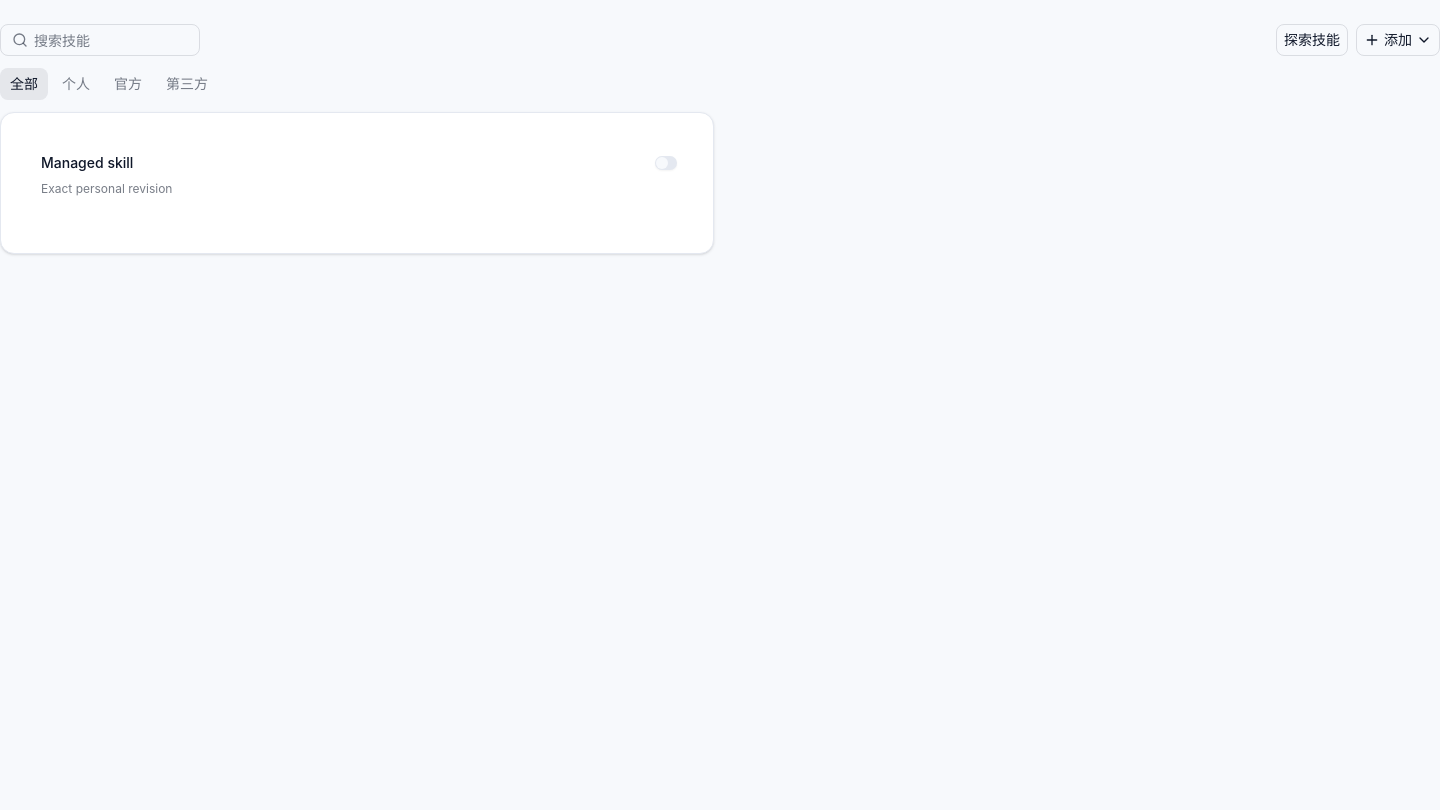
Test: does not treat a personal source label as publisher authority: forbidden
Click the button "Managed skill". click: (87, 163)
box: [41, 145, 133, 181]
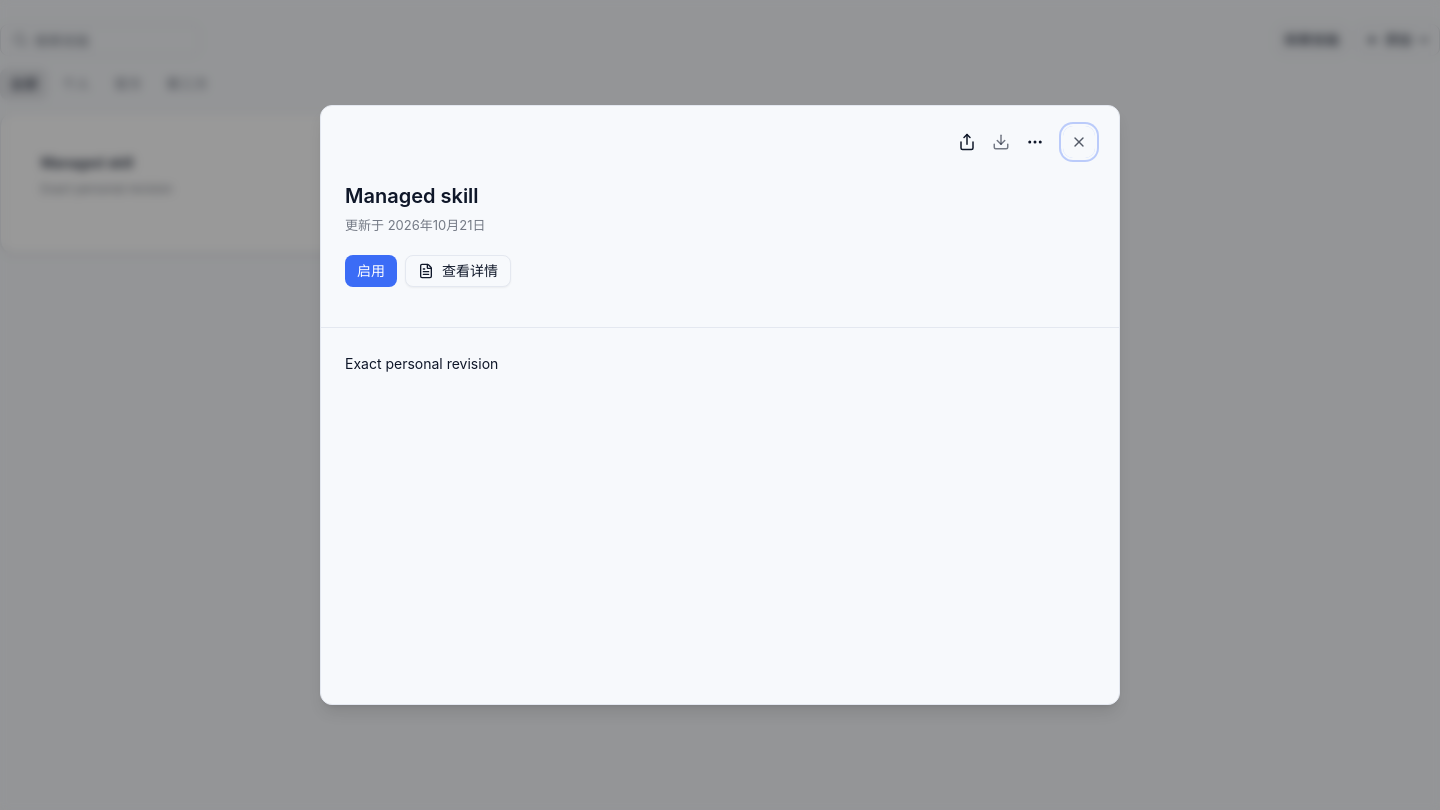
Press ArrowDown in the button named "更多技能操作", box [1019, 126, 1051, 158]
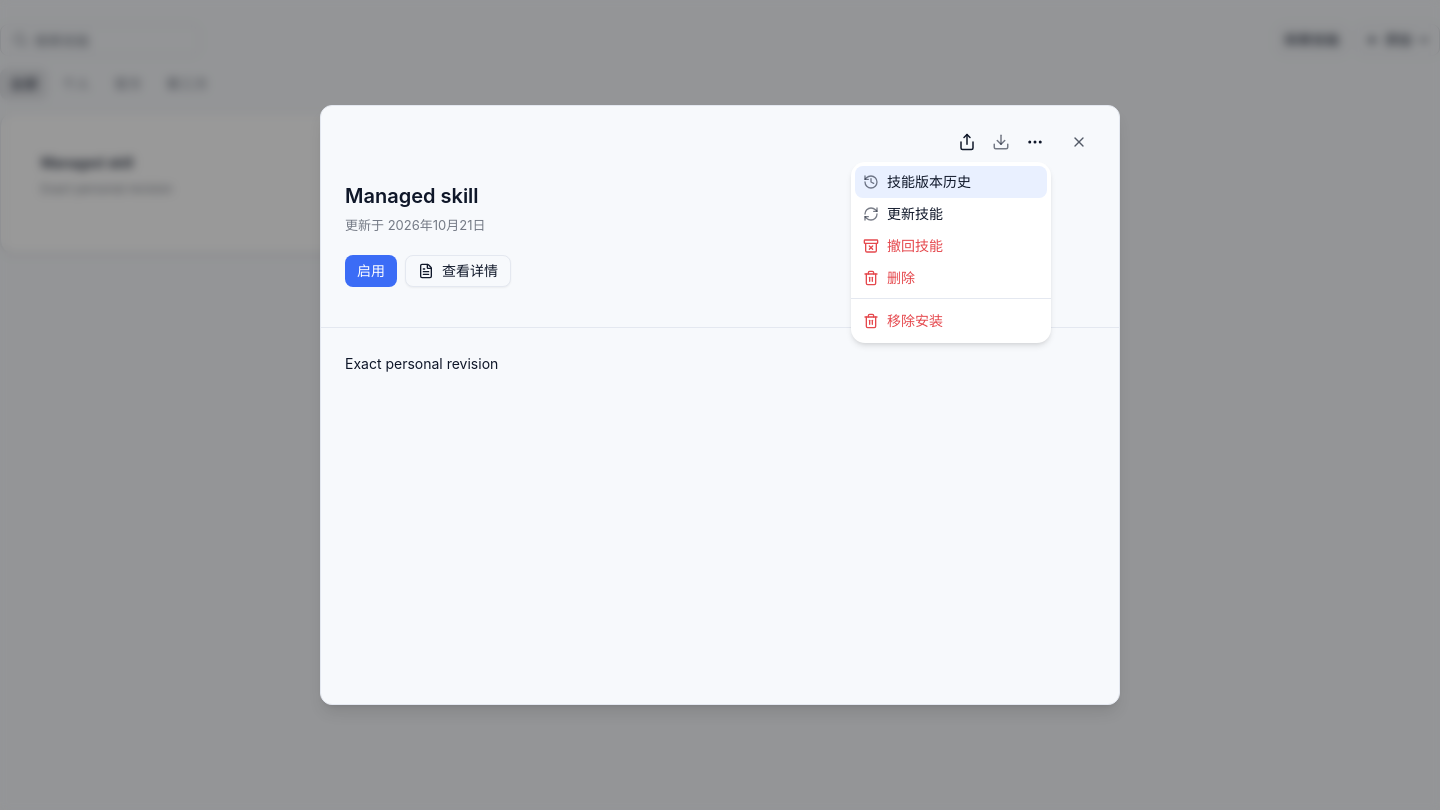
Click the menu item "更新技能". click: (903, 214)
box: [863, 205, 943, 222]
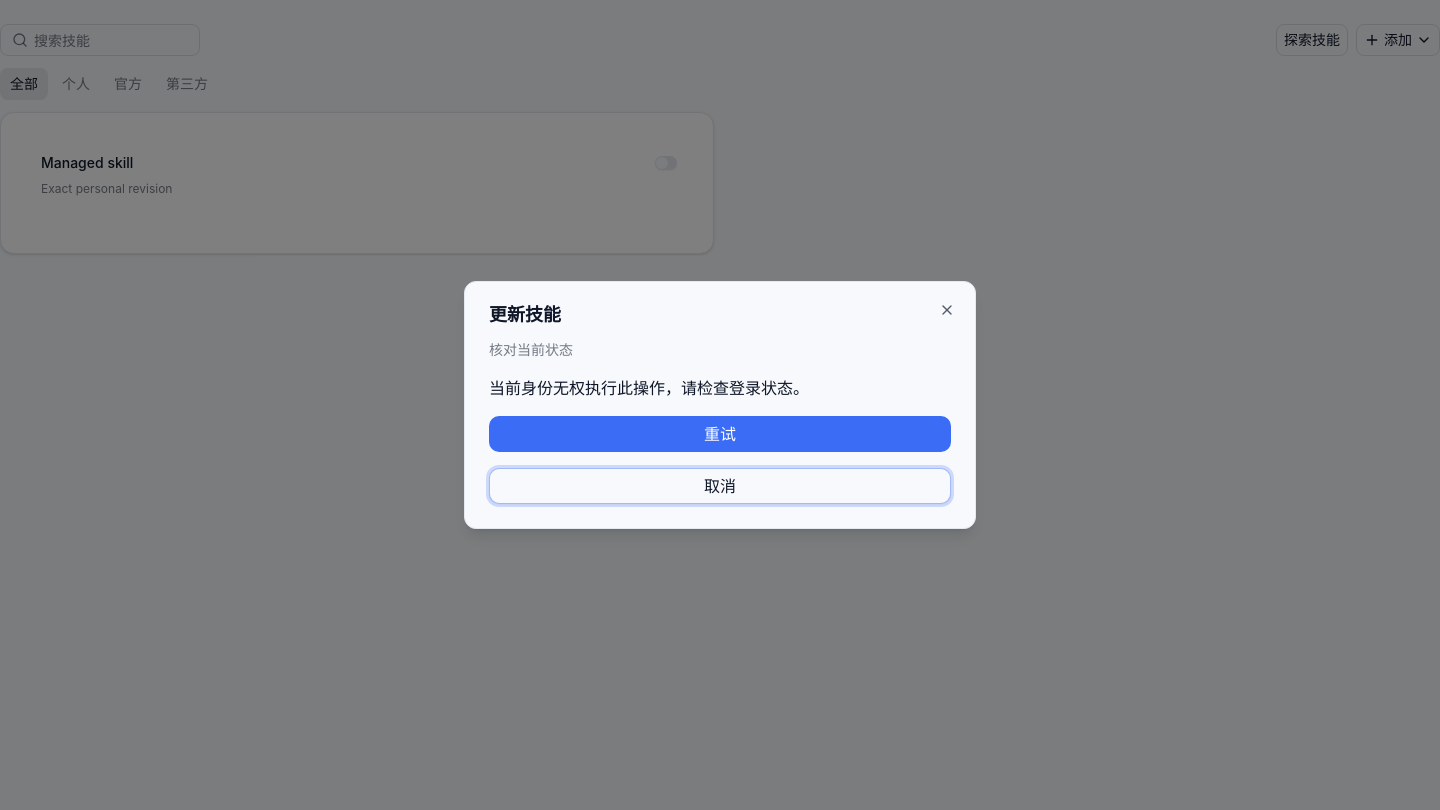
Now the message "当前身份无权执行此操作，请检查登录状态。" is shown, box [489, 378, 809, 398]
